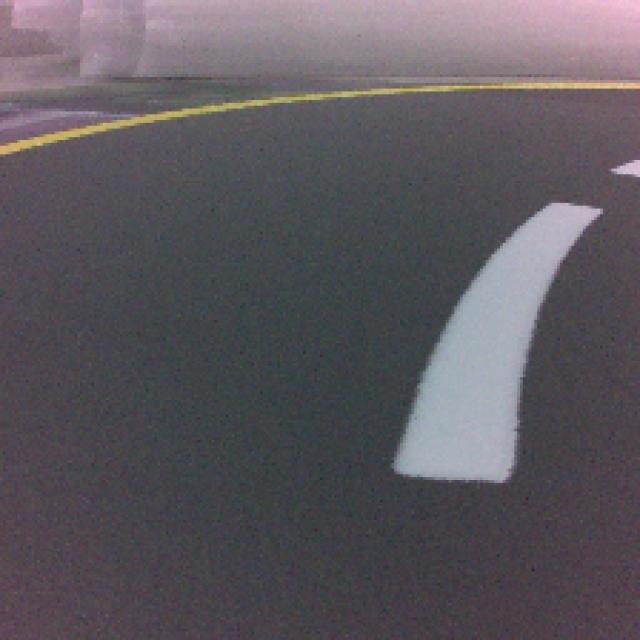Road: (0, 372, 421, 640)
